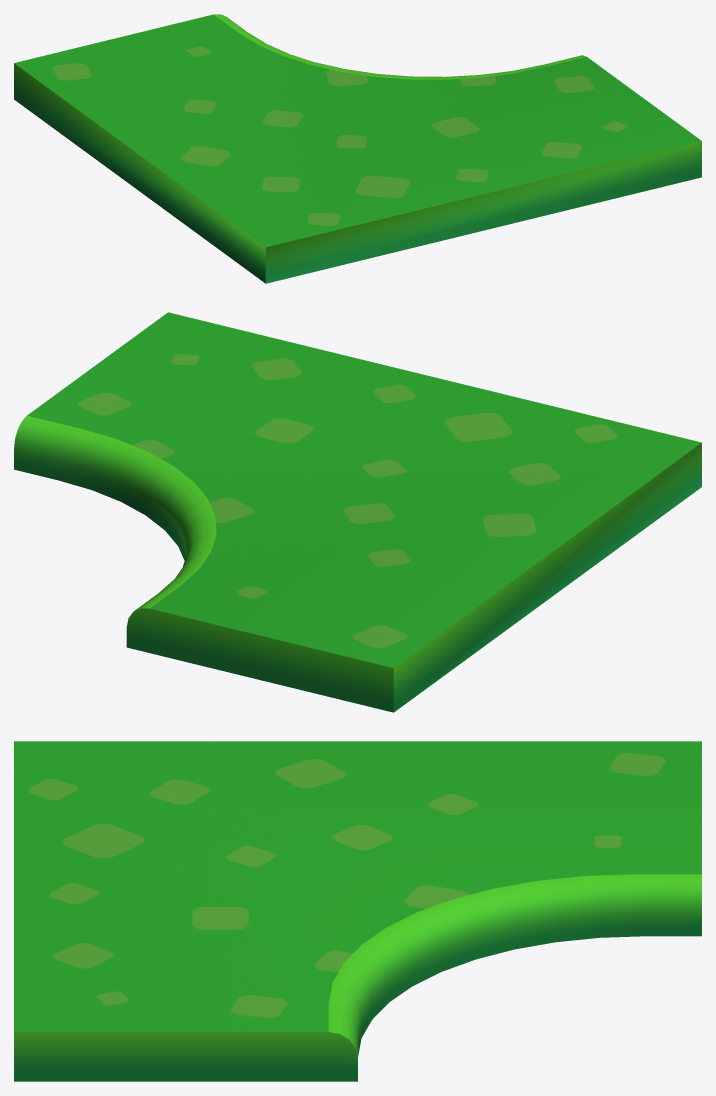
File: GrassFloor_InnerCorner_2.fbx
The picture shows the model from 3 angles, top to bottom: view 1: azimuth 30°, elevation 25°; view 2: azimuth 150°, elevation 25°; view 3: azimuth 270°, elevation 25°; orthographic projection. The views are drawn at different scales.
Parts seen in each view (by area): view 1: GrassFloor_InnerCorner_2; view 2: GrassFloor_InnerCorner_2; view 3: GrassFloor_InnerCorner_2.
Part boxes in pixels (<box>): GrassFloor_InnerCorner_2: <box>14,14,701,283</box>; GrassFloor_InnerCorner_2: <box>14,312,701,712</box>; GrassFloor_InnerCorner_2: <box>14,741,701,1081</box>.
Bounding box in the file's own units: 400 × 31.87 × 400.
